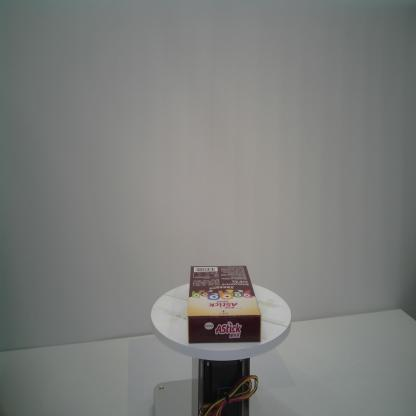Dessert: (187, 265, 261, 344)
